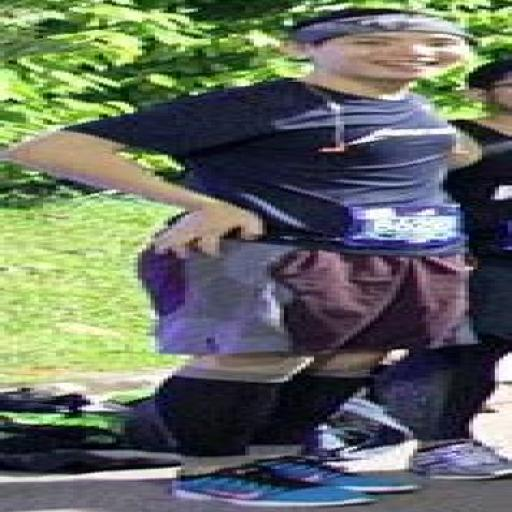person: (5, 8, 477, 506), (379, 59, 511, 479)
